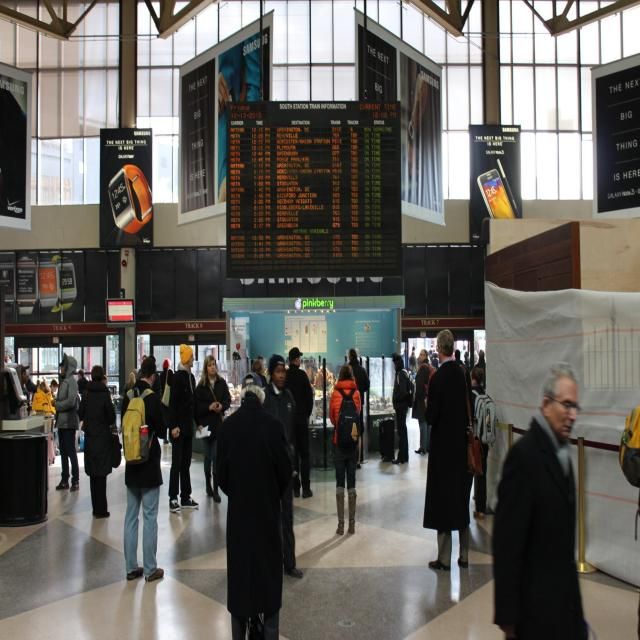body: (490, 359, 589, 640), (212, 368, 292, 640), (422, 328, 484, 573), (120, 355, 170, 584), (218, 341, 370, 412), (264, 353, 304, 581), (612, 382, 640, 640), (214, 52, 263, 198), (327, 360, 363, 538), (76, 364, 117, 520), (192, 352, 232, 506), (167, 340, 200, 513), (403, 332, 487, 392), (284, 346, 314, 500), (50, 349, 81, 494), (468, 367, 496, 521), (348, 348, 372, 464), (411, 348, 436, 456), (392, 352, 409, 467), (159, 358, 175, 446), (31, 379, 56, 428), (141, 348, 161, 398), (18, 368, 50, 392), (21, 363, 30, 417), (76, 368, 90, 395), (125, 371, 136, 392), (48, 378, 59, 399), (132, 367, 138, 380), (257, 356, 264, 367), (102, 374, 108, 386), (36, 379, 42, 389)
